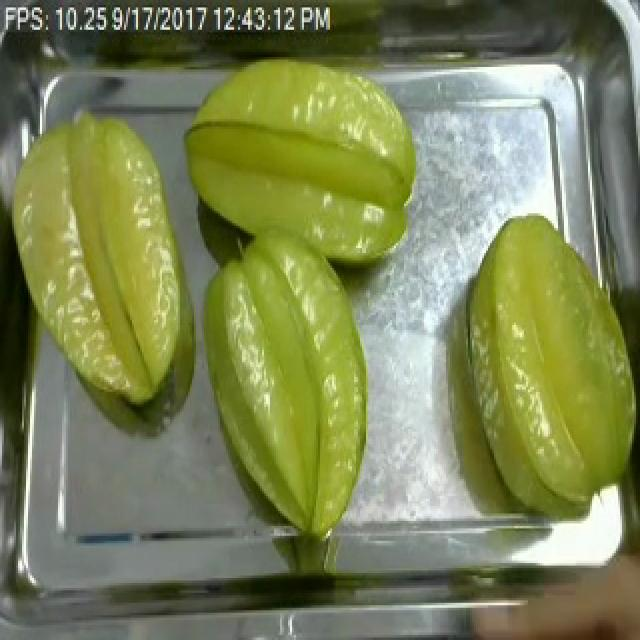fruit: (0, 97, 202, 424), (194, 226, 384, 558), (452, 204, 640, 534), (172, 42, 428, 280)
